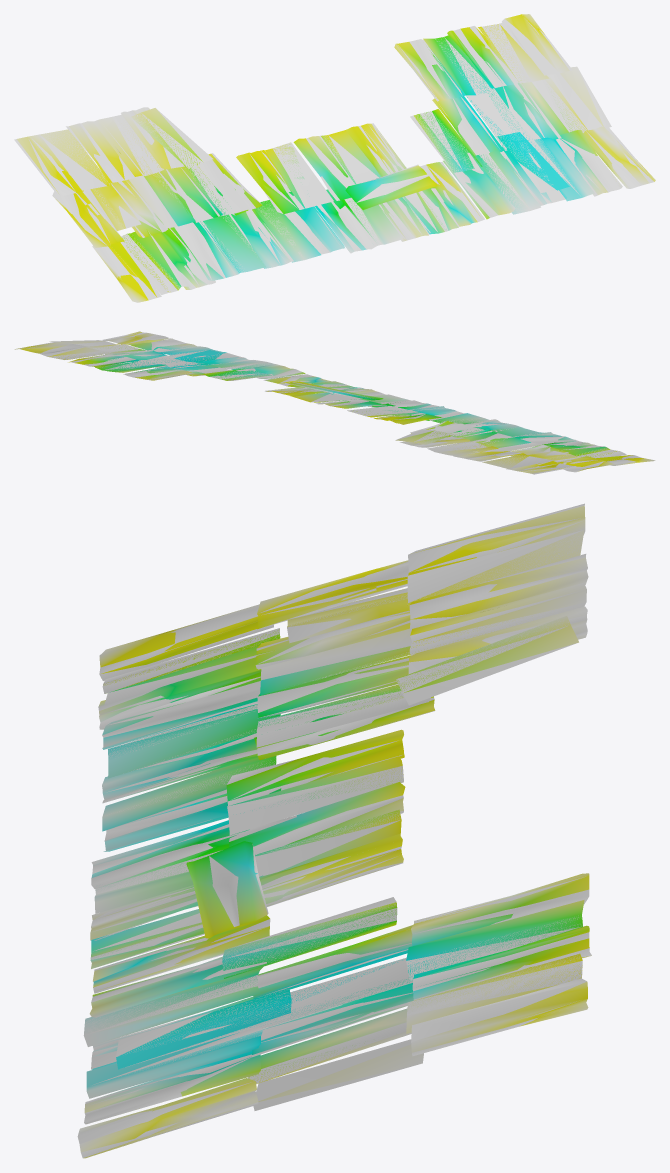
File: SM_MillRoof_NN_06a.FBX
3 views of the same model, one above another, from view 1: azimuth 30°, elevation 25°; view 2: azimuth 150°, elevation 25°; view 3: azimuth 270°, elevation 25° (orthographic). The views are drawn at different scales.
Visible parts, largest first — view 1: SM_MillRoof_NN_06a_LOD0; view 2: SM_MillRoof_NN_06a_LOD0; view 3: SM_MillRoof_NN_06a_LOD0.
Part boxes in pixels (x1,y1,x2,y2): SM_MillRoof_NN_06a_LOD0: [14, 14, 655, 302]; SM_MillRoof_NN_06a_LOD0: [14, 331, 655, 474]; SM_MillRoof_NN_06a_LOD0: [77, 503, 591, 1158].
Size of what is drawn, in the model's own units: 2049 by 871 by 295.
